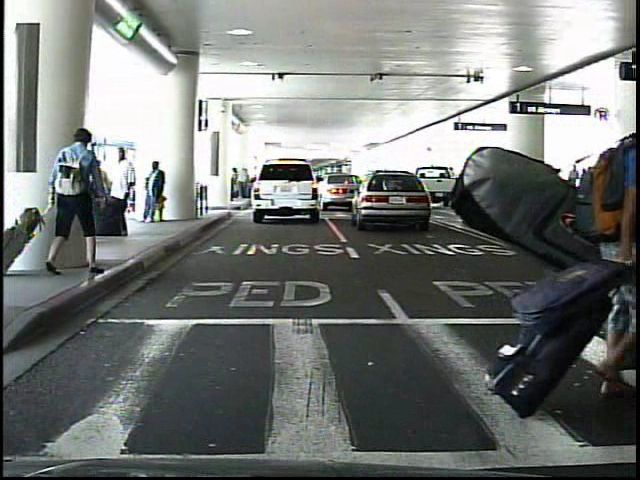person: (50, 126, 99, 277), (105, 146, 133, 239), (142, 158, 169, 225), (562, 164, 578, 213), (576, 168, 590, 212)
